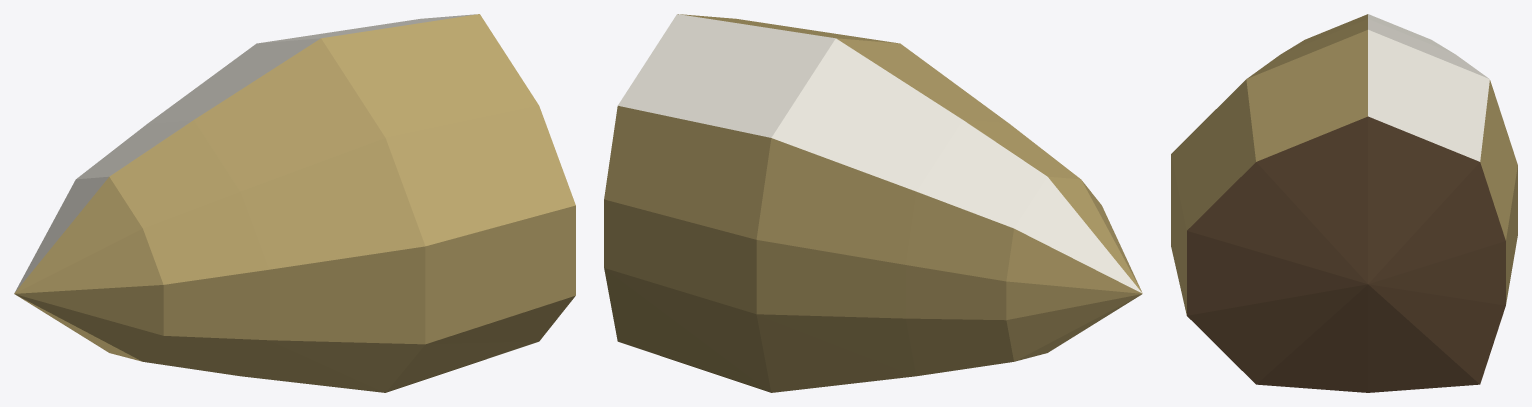
Rendered from grain_kernel.glb.
3 renders of one model, left to right at view 1: azimuth 30°, elevation 25°; view 2: azimuth 150°, elevation 25°; view 3: azimuth 270°, elevation 25°, orthographic. The views are drawn at different scales.
Visible parts, largest first — view 1: grain_kernel; view 2: grain_kernel; view 3: grain_kernel.
Boxes of the visible parts, left/top/right/bottom form: grain_kernel: left=14, top=14, right=575, bottom=392; grain_kernel: left=604, top=14, right=1142, bottom=392; grain_kernel: left=1171, top=14, right=1517, bottom=392.
Size of the model in its own units: 0.02 by 0.012 by 0.013.
